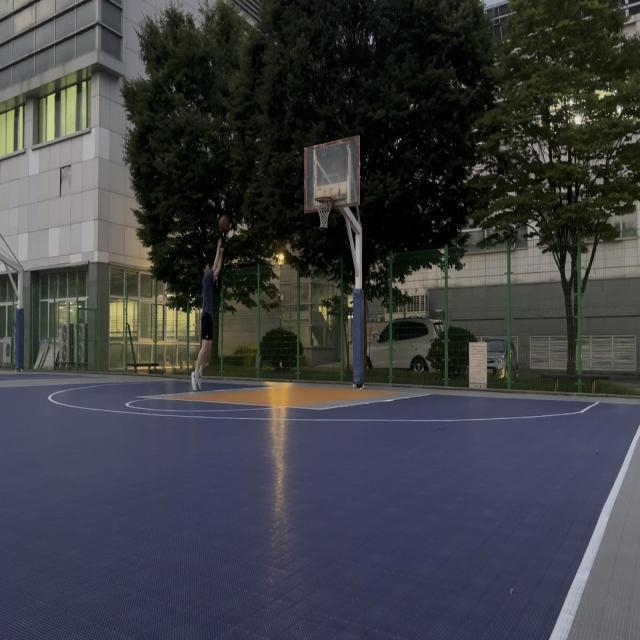Ball: (218, 215, 229, 234)
